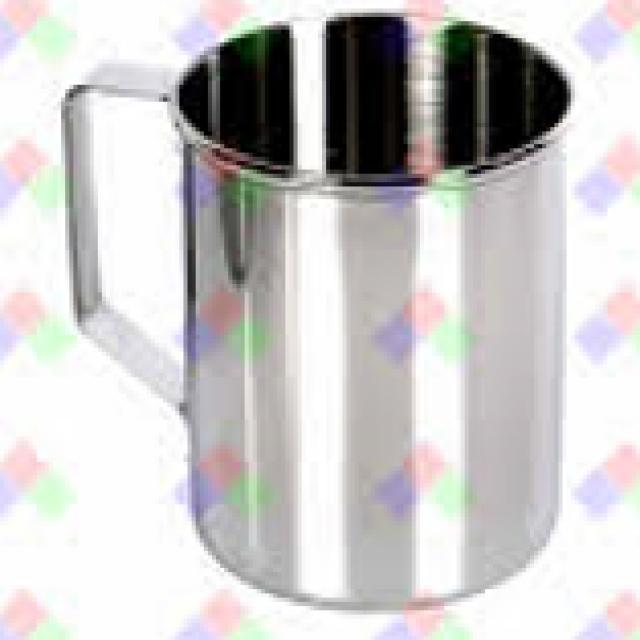taza: (60, 12, 572, 613)
